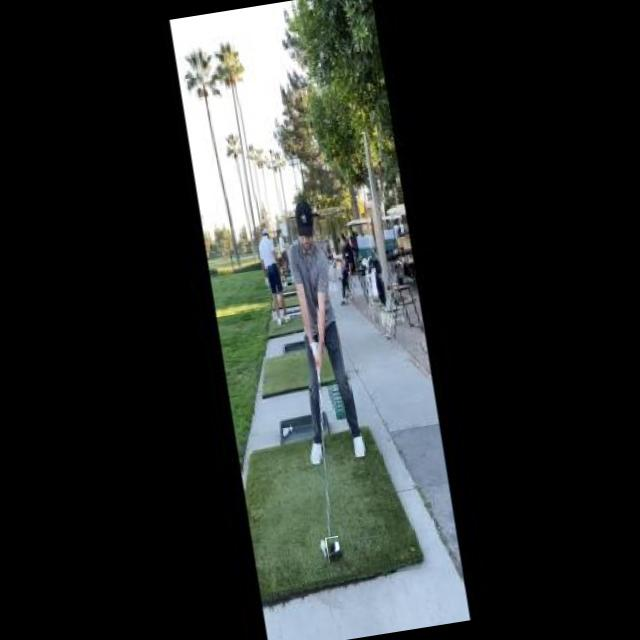club head: (325, 536, 342, 562)
